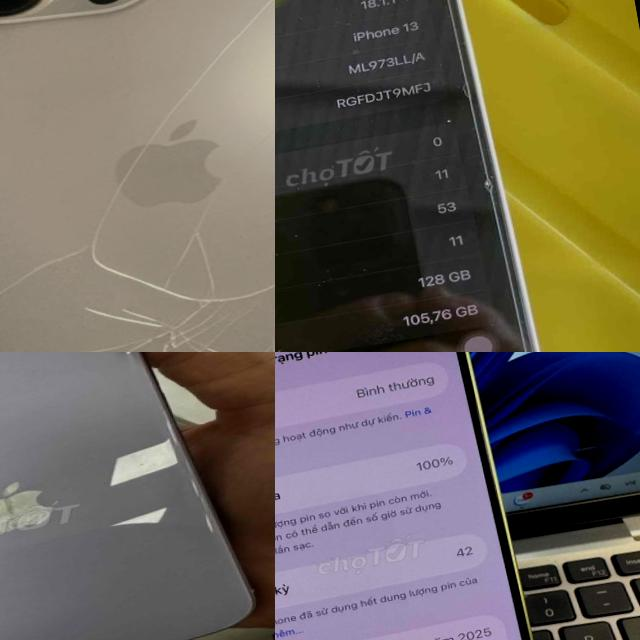gen_11: (0, 352, 265, 640)
gen_12_13: (275, 0, 572, 352), (0, 0, 275, 352)
gen_17: (275, 352, 591, 640)
